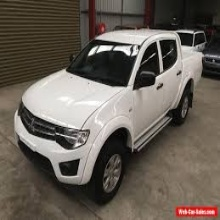no damage: (14, 28, 203, 205), (203, 32, 220, 79)
